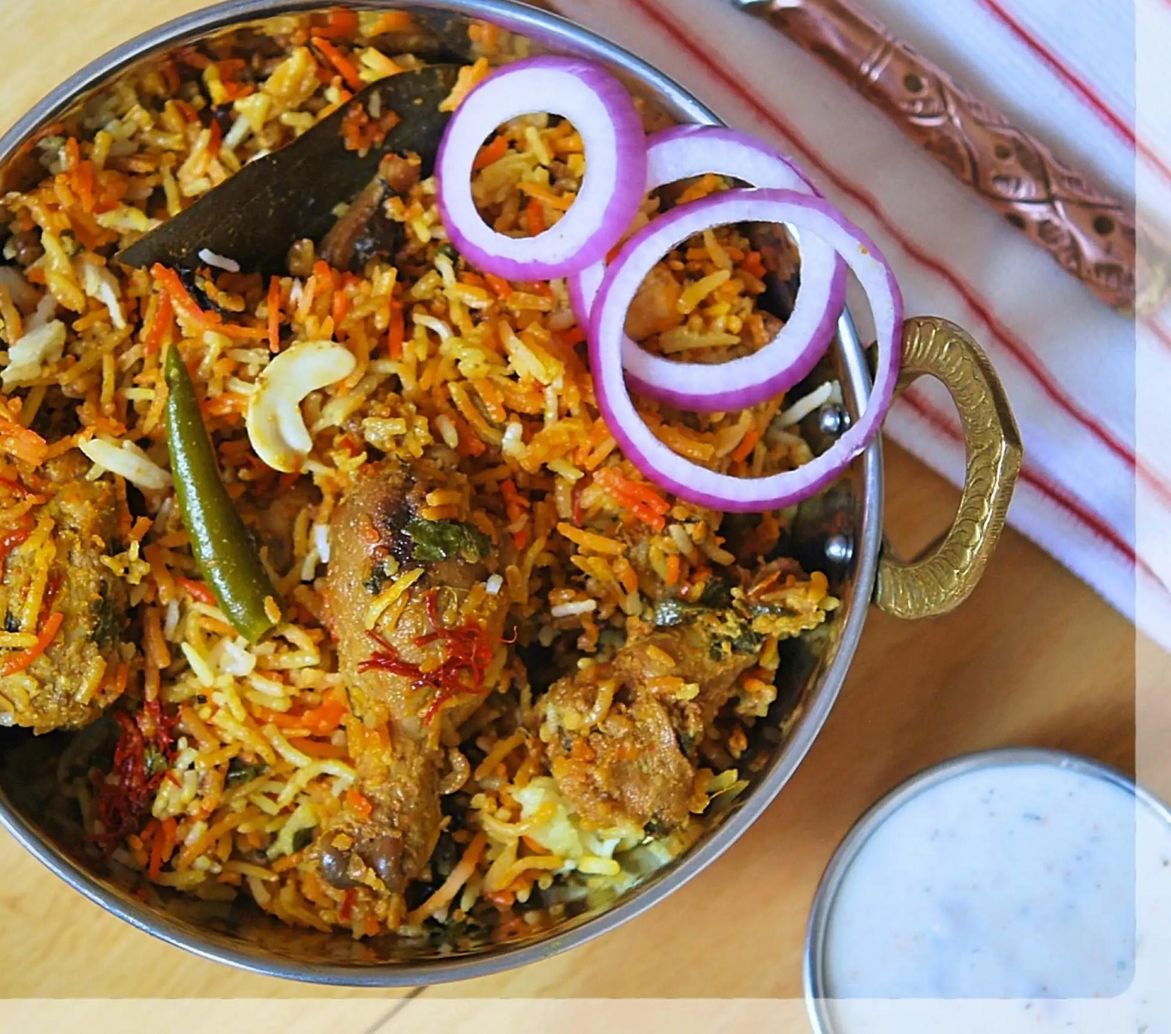Biryani: (0, 0, 847, 944)
